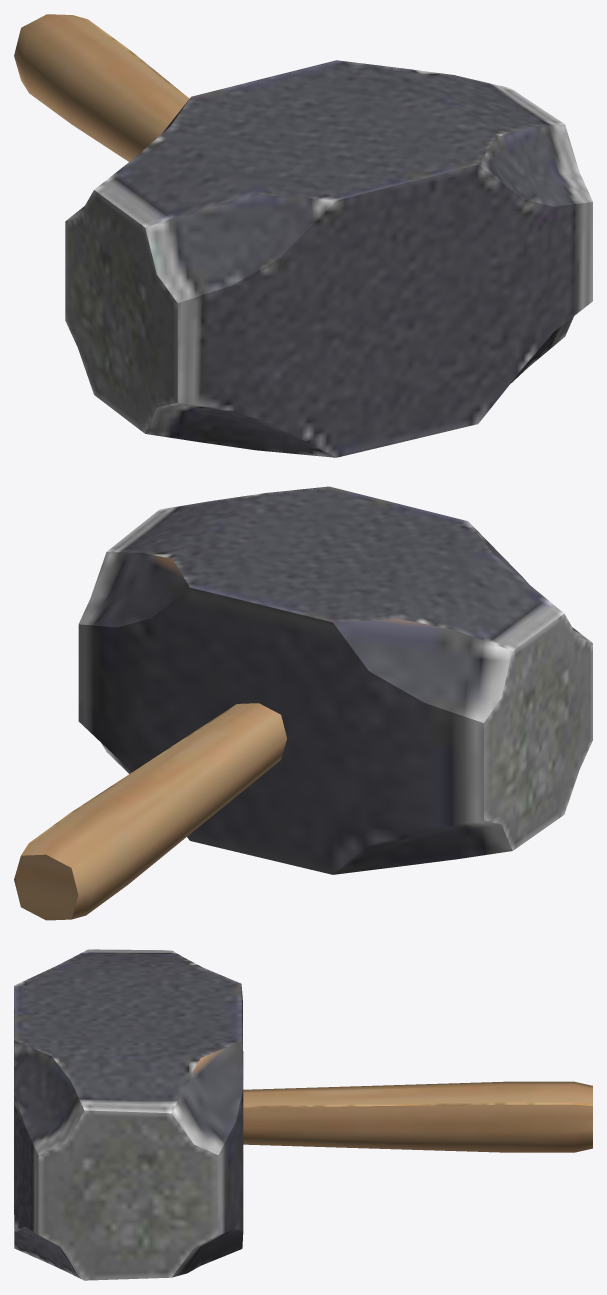
File: hammer.fbx
The picture shows the model from 3 angles, top to bottom: view 1: azimuth 30°, elevation 25°; view 2: azimuth 150°, elevation 25°; view 3: azimuth 270°, elevation 25°; orthographic projection. The views are drawn at different scales.
Visible parts, largest first — view 1: blacksmith_hammer; view 2: blacksmith_hammer; view 3: blacksmith_hammer.
Part boxes in pixels (<box>): blacksmith_hammer: <box>14,14,592,457</box>; blacksmith_hammer: <box>14,486,592,920</box>; blacksmith_hammer: <box>14,949,592,1280</box>.
Size of the model in its own units: 0.9771 by 0.575 by 1.45.
